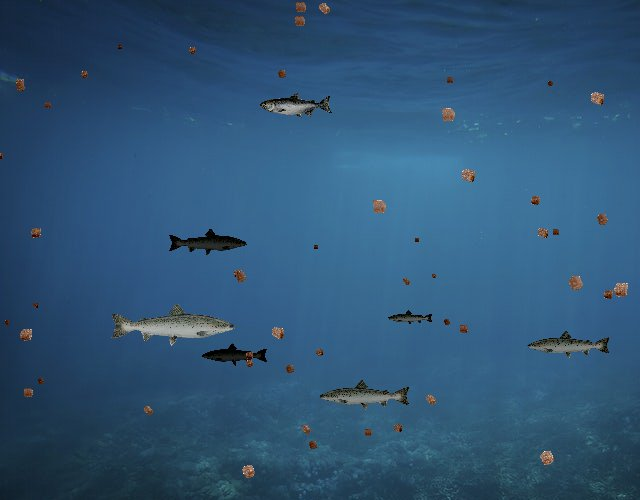Fish: (108, 301, 237, 347), (319, 379, 413, 413), (526, 329, 612, 360), (167, 227, 248, 256), (260, 93, 333, 119), (202, 343, 270, 367), (387, 309, 434, 326)
Pellet: (606, 274, 636, 304), (234, 458, 262, 486), (264, 320, 291, 347), (312, 0, 336, 20), (10, 77, 31, 98), (76, 66, 92, 82), (544, 77, 557, 90), (29, 299, 41, 311)
